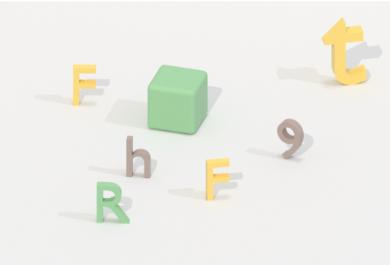0-KhoiVuong: (142, 58, 213, 140)
9: (274, 114, 306, 164)
F: (67, 60, 104, 109), (202, 155, 237, 204)
R: (92, 177, 132, 226)
h: (123, 133, 154, 181)
t: (319, 14, 376, 89)
